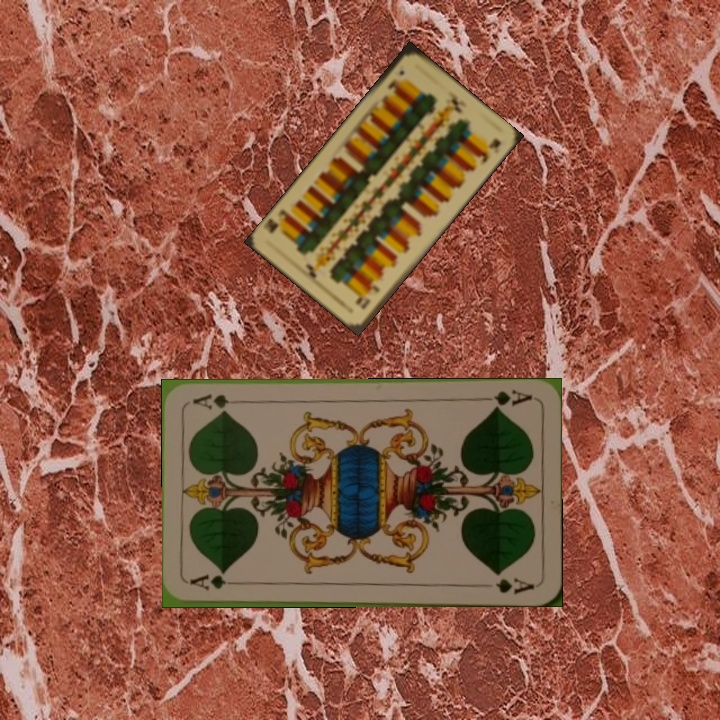E10: (354, 281, 382, 312), (383, 66, 407, 95)
GA: (476, 385, 534, 412), (187, 572, 246, 593)
